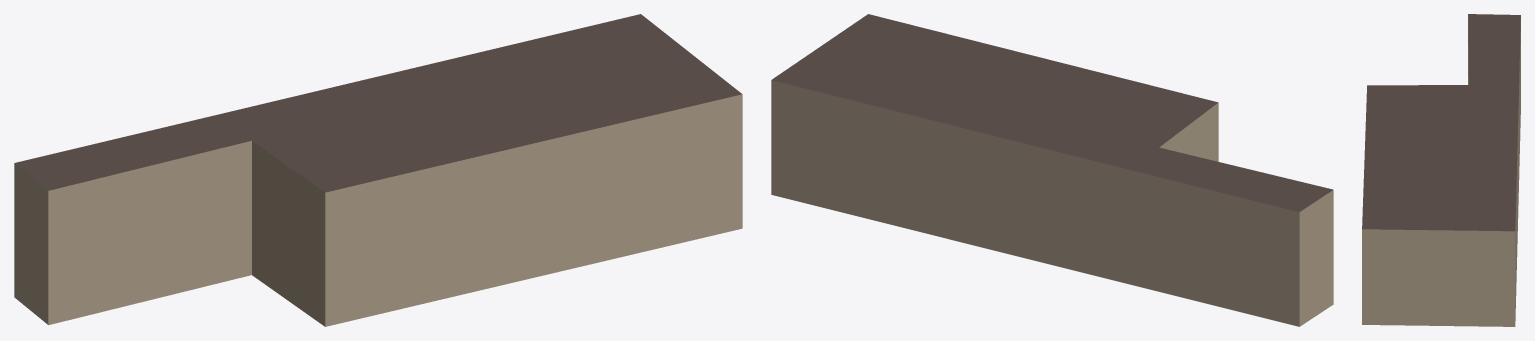
3 renders of one model, left to right at view 1: azimuth 30°, elevation 25°; view 2: azimuth 150°, elevation 25°; view 3: azimuth 270°, elevation 25°, orthographic. The views are drawn at different scales.
Visible parts, largest first — view 1: HP-w1515071121; view 2: HP-w1515071121; view 3: HP-w1515071121.
Part boxes in pixels (<box>): HP-w1515071121: <box>14,14,742,326</box>; HP-w1515071121: <box>771,14,1333,326</box>; HP-w1515071121: <box>1362,14,1520,326</box>.
Size of the model in its own units: 43.85 by 9 by 13.55.
